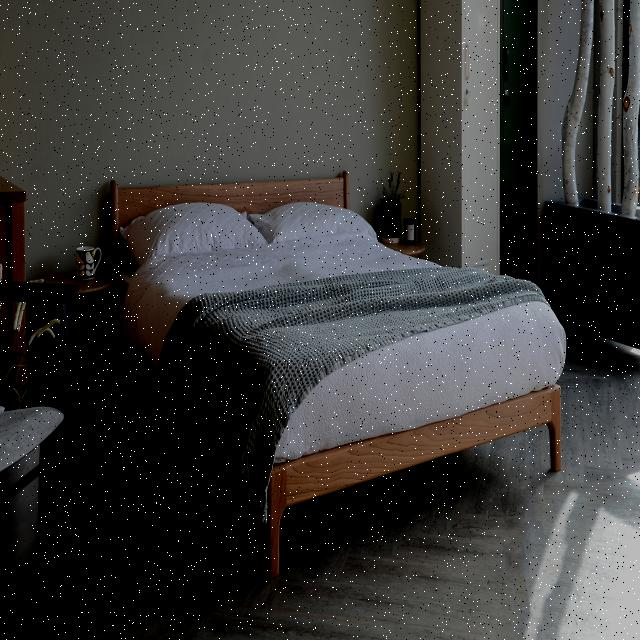bed: (108, 159, 556, 431)
